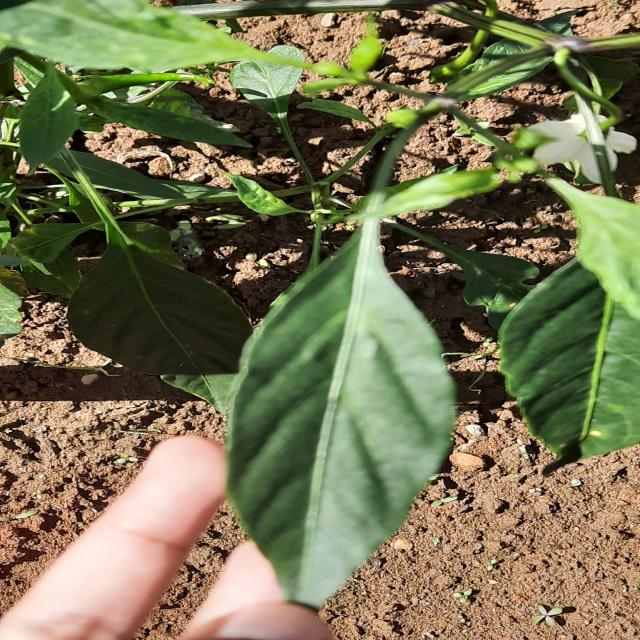sehat: (219, 207, 484, 618)
